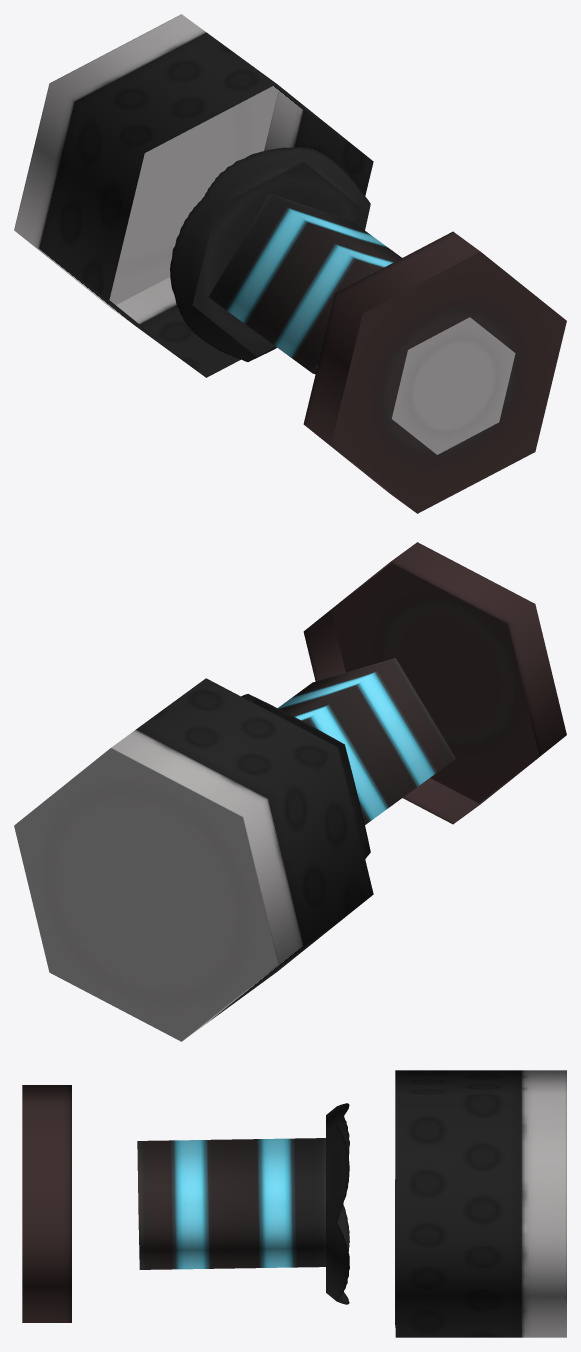
Rendered from obj_interactive_suspensionsport_05_off_lod1.fbx.
The picture shows the model from 3 angles, top to bottom: view 1: azimuth 30°, elevation 25°; view 2: azimuth 150°, elevation 25°; view 3: azimuth 270°, elevation 25°; orthographic projection. The views are drawn at different scales.
Parts seen in each view (by area): view 1: obj_interactive_suspensionsport_05_off_lod1; view 2: obj_interactive_suspensionsport_05_off_lod1; view 3: obj_interactive_suspensionsport_05_off_lod1.
Boxes of the visible parts, left/top/right/bottom form: obj_interactive_suspensionsport_05_off_lod1: left=14, top=14, right=566, bottom=513; obj_interactive_suspensionsport_05_off_lod1: left=14, top=542, right=566, bottom=1041; obj_interactive_suspensionsport_05_off_lod1: left=22, top=1070, right=566, bottom=1337.
Bounding box in the file's own units: 1.02 × 1.02 × 2.06.
1 material, 1 textured.
